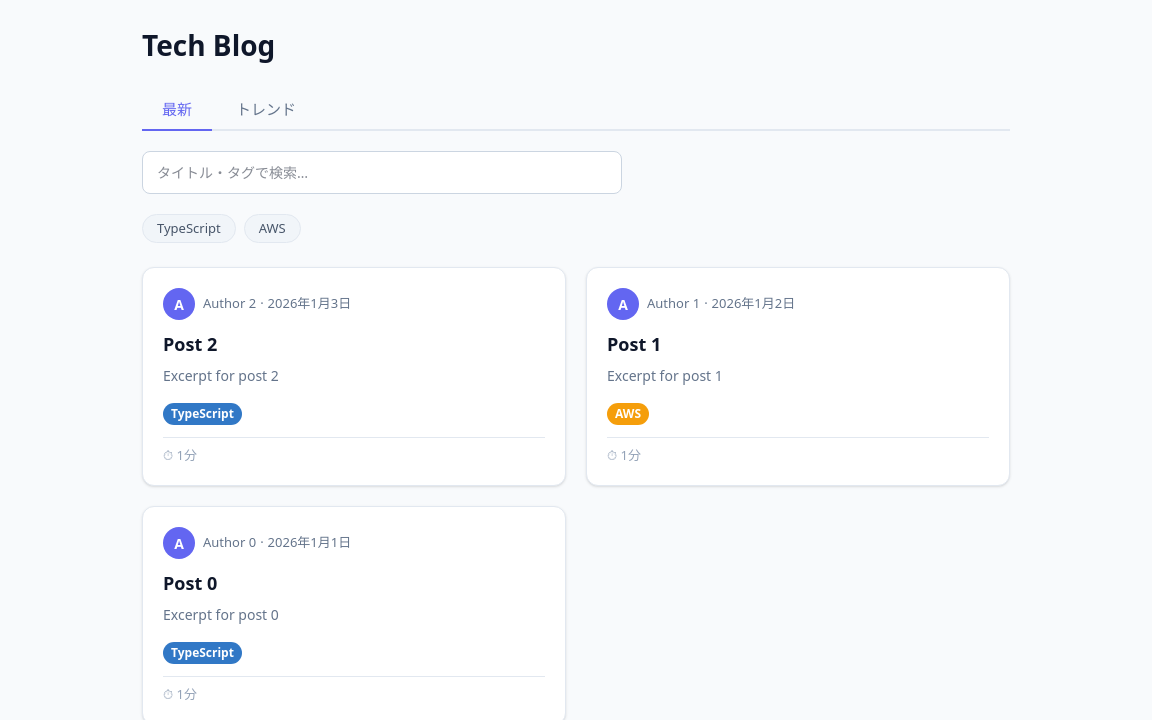
TopPage › キーワード検索 › タイトル検索でマッチするカードのみ表示される
Type "Post 1" into the field with test id "search-input".
click(382, 172); type("Post 1")  # box [142,150,622,194]
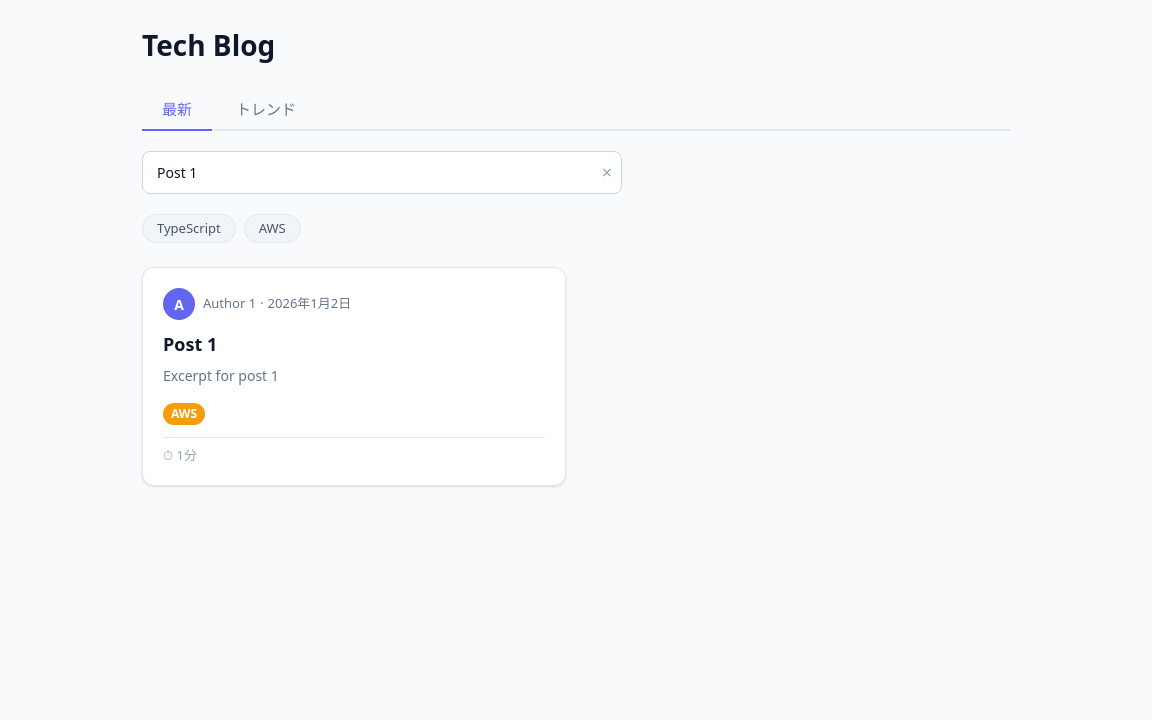
Result: the number of links with test id "blog-post-card" is 1 at [142,267,566,486]
